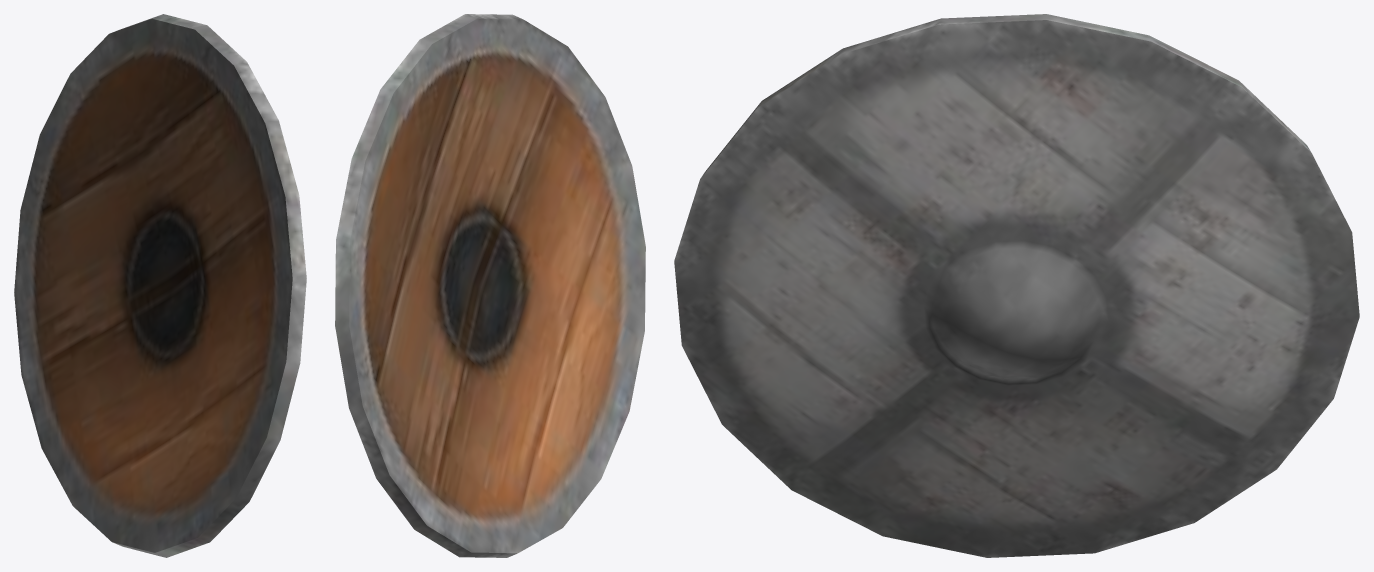
Rendered from shield-bronzeshields.glb.
3 views of the same model, side by side, from view 1: azimuth 30°, elevation 25°; view 2: azimuth 150°, elevation 25°; view 3: azimuth 270°, elevation 25° (orthographic). The views are drawn at different scales.
Bounding box in the file's own units: 0.1492 × 0.5582 × 0.5735.
1 material, 1 textured.
